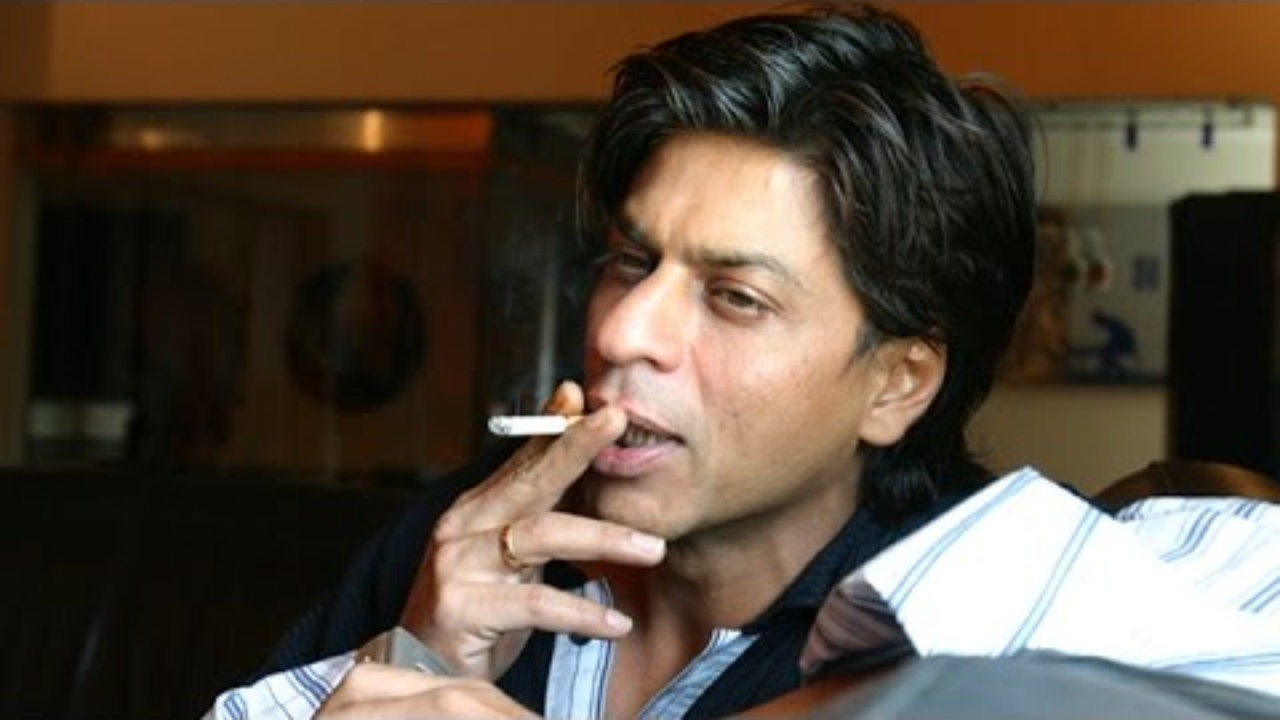cigarette: (477, 403, 608, 439)
